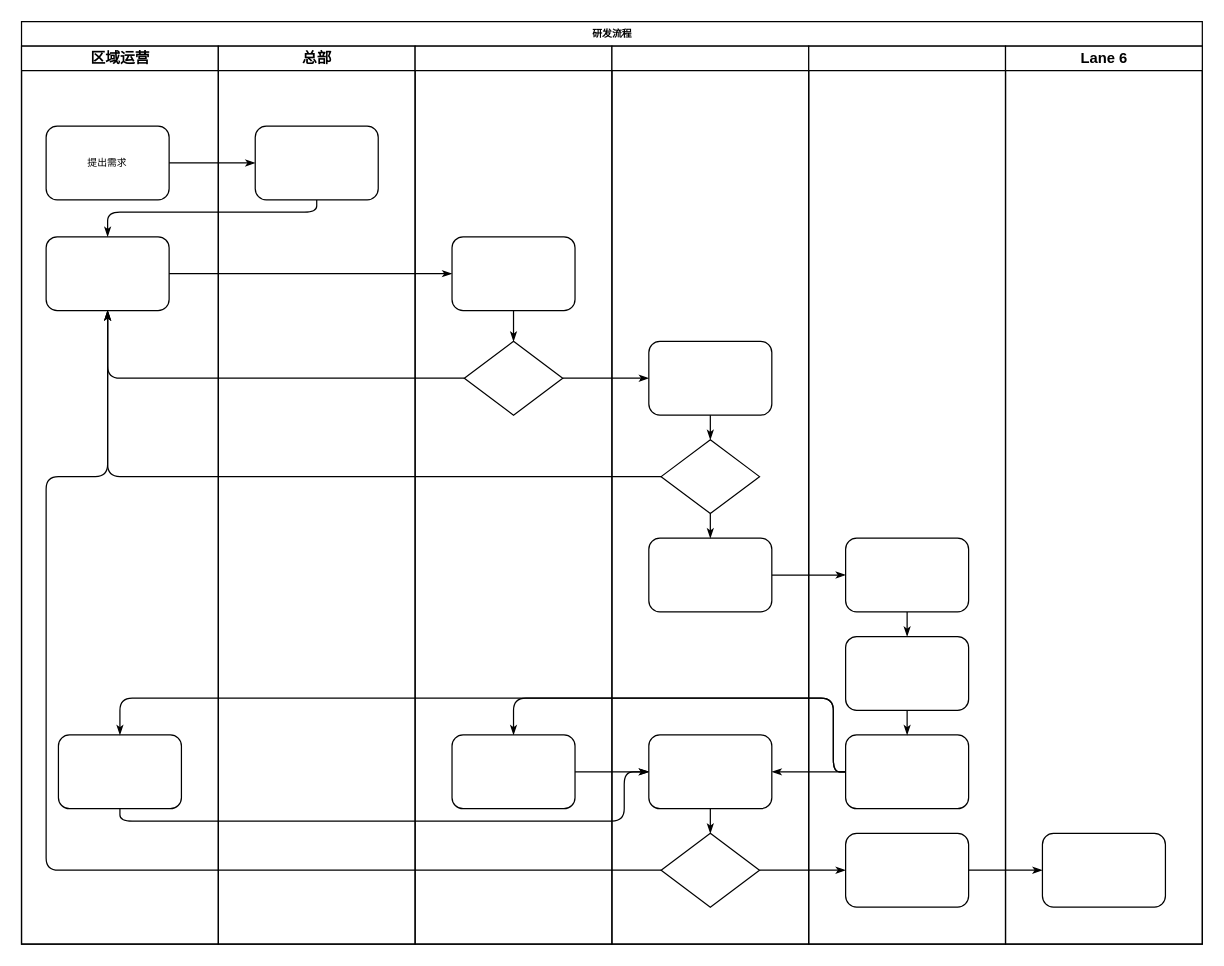
This 1224x966 diagram has some shape labels left out. Each missing label, with the box of its shape:
Lane 4: (611, 45, 809, 944)
Lane 5: (807, 45, 1006, 944)
技术同学: (414, 45, 612, 944)
